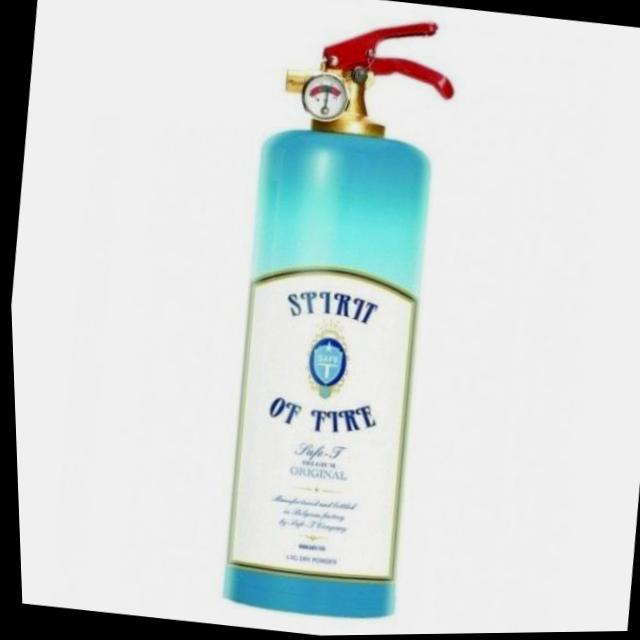FireExtinguisher: (188, 0, 481, 638)
